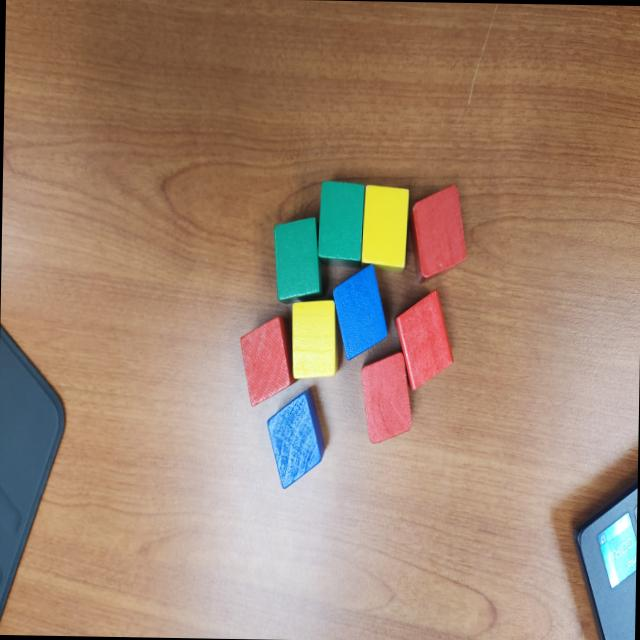blue: (264, 384, 328, 489), (330, 263, 390, 362)
green: (270, 213, 322, 304), (316, 180, 366, 260)
red: (407, 182, 468, 288), (392, 288, 454, 392), (238, 312, 300, 408), (358, 349, 415, 444)
yellow: (290, 298, 342, 380), (362, 184, 408, 270)
